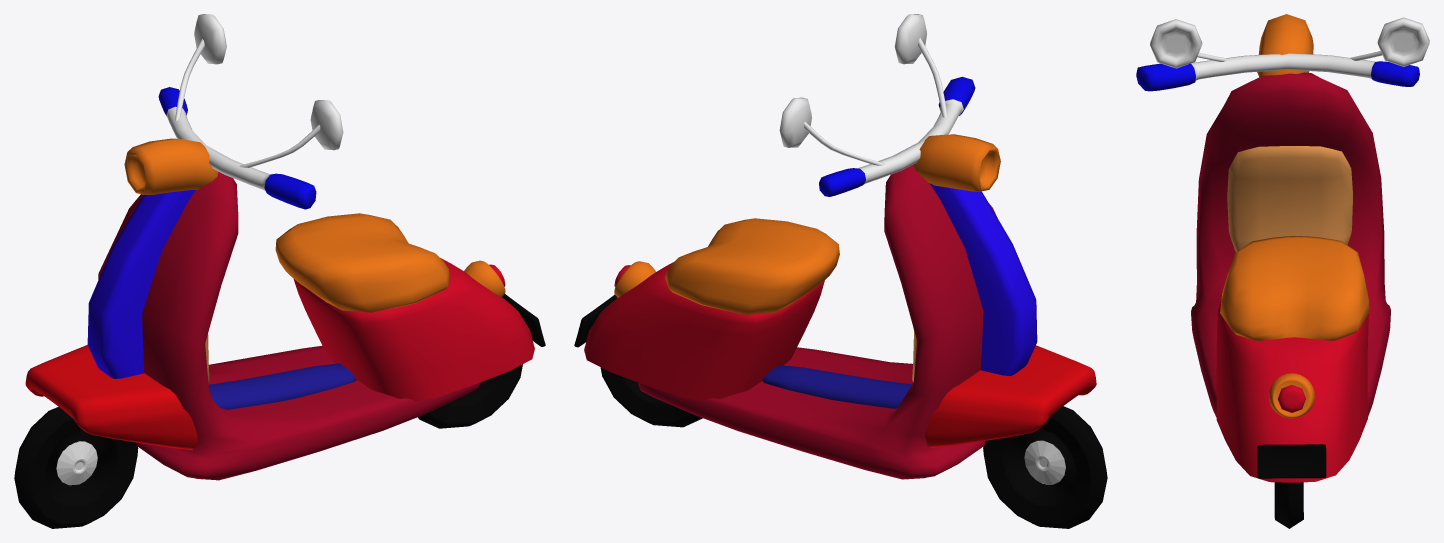
File: Level3_Model_Motorcycle.fbx
The picture shows the model from 3 angles, left to right: view 1: azimuth 30°, elevation 25°; view 2: azimuth 150°, elevation 25°; view 3: azimuth 270°, elevation 25°; orthographic projection.
Visible parts, largest first — view 1: Motorcycle.004, Motorcycle.002, Motorcycle.009, Motorcycle.001, Motorcycle.005, Motorcycle.007, Motorcycle.003, Motorcycle, Motorcycle.006, Motorcycle.008; view 2: Motorcycle.004, Motorcycle.002, Motorcycle.009, Motorcycle.001, Motorcycle.005, Motorcycle.007, Motorcycle.003, Motorcycle, Motorcycle.006, Motorcycle.008; view 3: Motorcycle.004, Motorcycle.002, Motorcycle.009, Motorcycle.010, Motorcycle.003, Motorcycle.001, Motorcycle.008, Motorcycle.
Part boxes in pixels (x1,y1,x2,y2): Motorcycle.004: [98, 172, 480, 480]; Motorcycle.002: [293, 258, 534, 401]; Motorcycle.009: [275, 213, 505, 312]; Motorcycle.001: [14, 294, 545, 528]; Motorcycle.005: [25, 345, 197, 449]; Motorcycle.007: [87, 190, 195, 378]; Motorcycle.003: [56, 14, 343, 485]; Motorcycle: [124, 138, 218, 194]; Motorcycle.006: [208, 363, 356, 409]; Motorcycle.008: [158, 87, 316, 209]; Motorcycle.004: [638, 164, 997, 479]; Motorcycle.002: [584, 262, 824, 400]; Motorcycle.009: [614, 218, 839, 314]; Motorcycle.001: [574, 294, 1107, 528]; Motorcycle.005: [925, 345, 1096, 448]; Motorcycle.007: [929, 183, 1037, 376]; Motorcycle.003: [779, 14, 1065, 484]; Motorcycle: [913, 134, 1000, 191]; Motorcycle.006: [762, 365, 911, 408]; Motorcycle.008: [819, 76, 975, 196]; Motorcycle.004: [1191, 72, 1390, 417]; Motorcycle.002: [1216, 299, 1368, 482]; Motorcycle.009: [1220, 236, 1369, 418]; Motorcycle.010: [1227, 146, 1352, 251]; Motorcycle.003: [1150, 17, 1429, 81]; Motorcycle.001: [1257, 444, 1326, 528]; Motorcycle.008: [1136, 61, 1419, 91]; Motorcycle: [1257, 14, 1313, 76].
Size of the model in its own units: 273 by 215 by 137.
